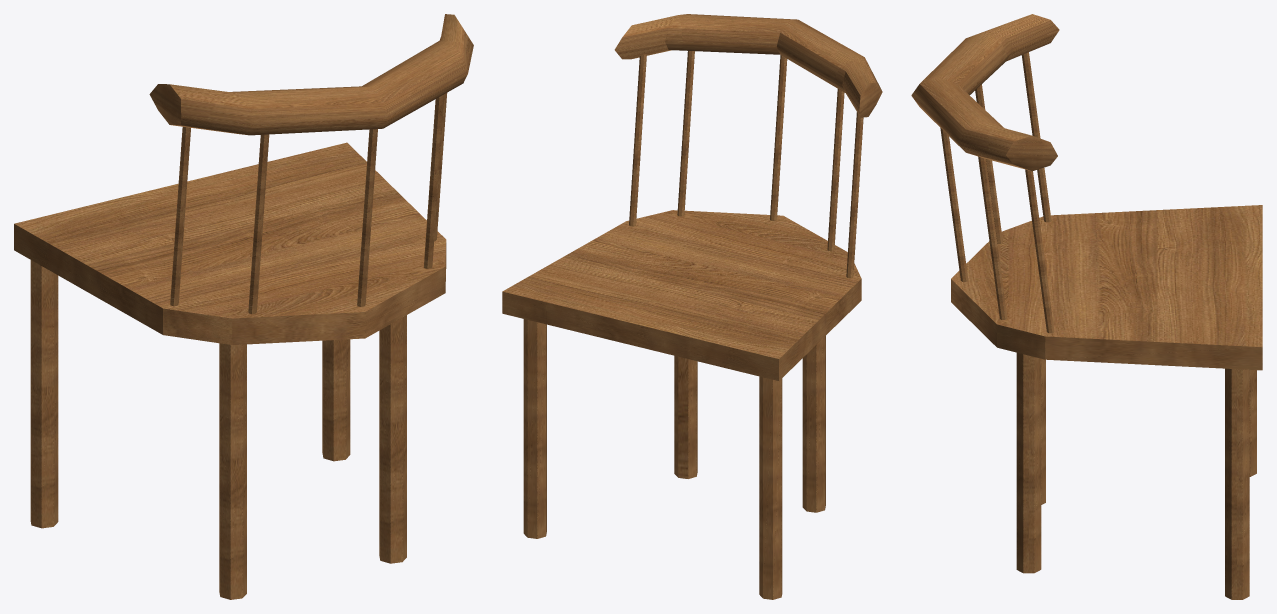
File: silla.glb
3 views of the same model, side by side, from view 1: azimuth 30°, elevation 25°; view 2: azimuth 150°, elevation 25°; view 3: azimuth 270°, elevation 25° (orthographic). The views are drawn at different scales.
Visible parts, largest first — view 1: pCube3_WoodChairTexture_0; view 2: pCube3_WoodChairTexture_0; view 3: pCube3_WoodChairTexture_0.
Boxes of the visible parts, x1,y1,x2,y2 form: pCube3_WoodChairTexture_0: (14,14,473,599); pCube3_WoodChairTexture_0: (502,14,882,599); pCube3_WoodChairTexture_0: (911,14,1262,599).
Size of the model in its own units: 3.35 by 5.05 by 3.49.
1 material, 1 textured.
